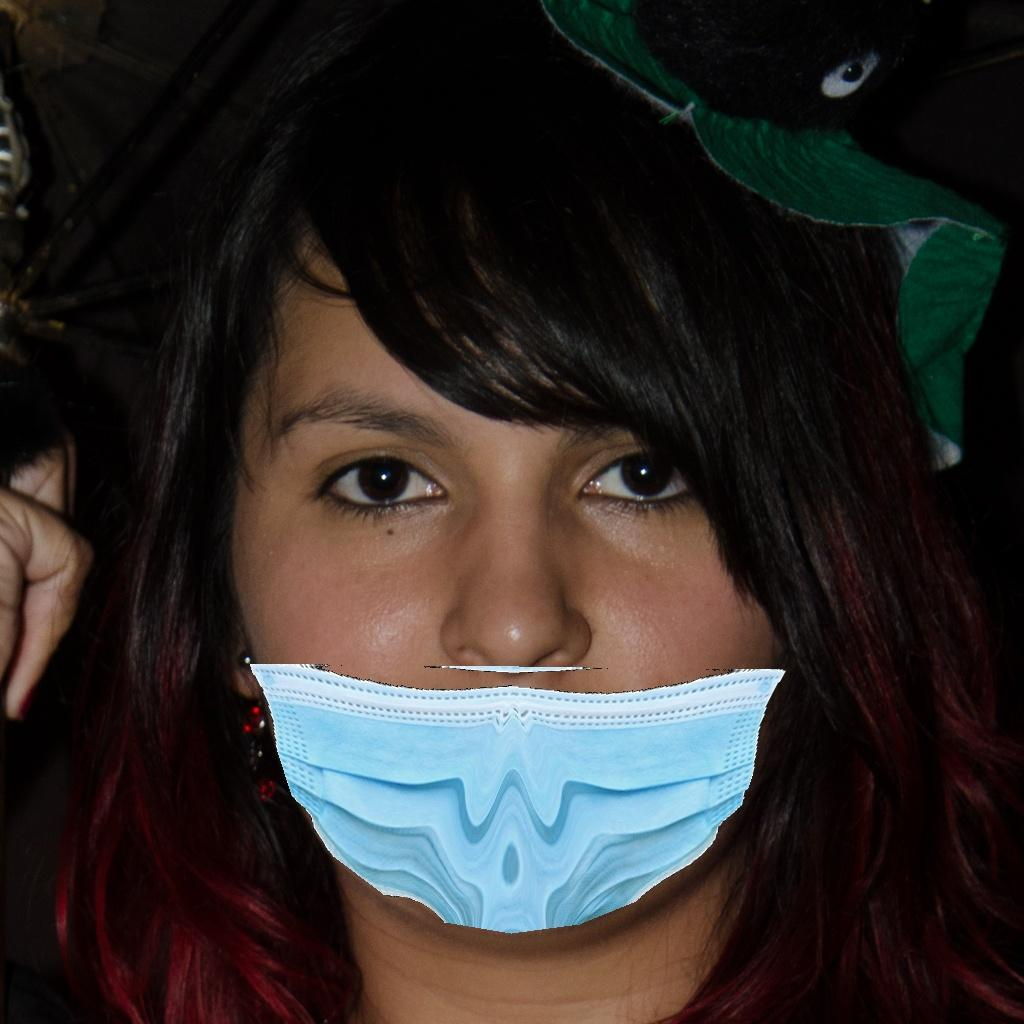Máscara Incorreta: (225, 326, 814, 912)
